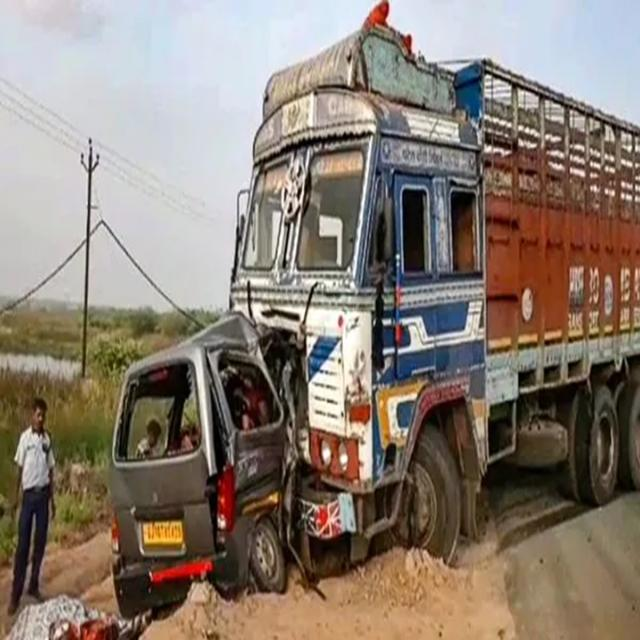accident: (230, 4, 640, 568), (109, 313, 300, 618)
